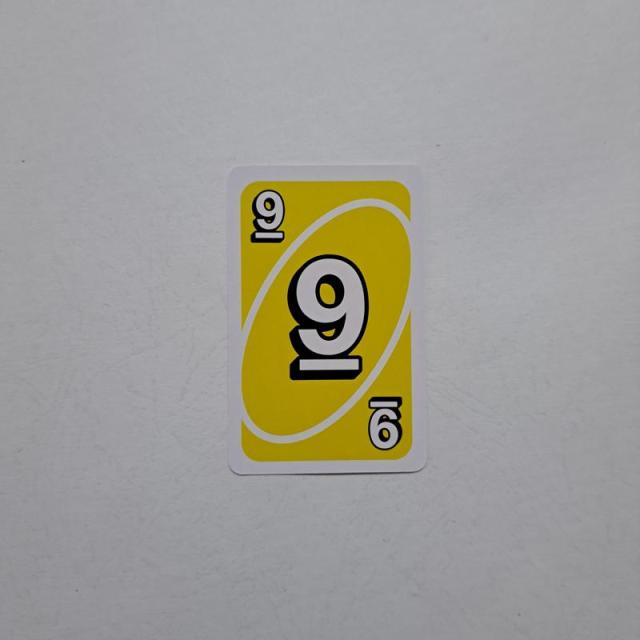Number_9: (243, 186, 292, 250)
Yellow_Card: (235, 172, 422, 468)
